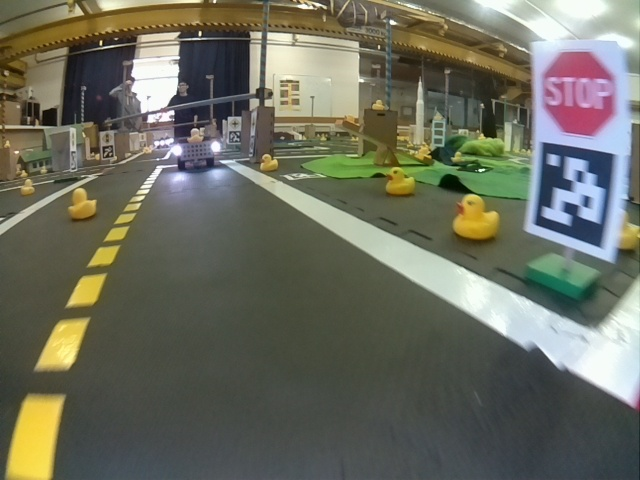Duckie: (455, 197, 499, 240), (385, 167, 412, 195), (71, 190, 96, 218), (260, 154, 278, 171), (21, 180, 34, 194), (188, 132, 203, 142), (372, 99, 383, 109)
Duckiebot: (174, 140, 219, 170)
Intersection sign: (228, 118, 241, 129)
QR code: (535, 140, 618, 253), (101, 145, 115, 159), (228, 134, 241, 144)
Signal sign: (100, 132, 113, 144)
Stop sign: (538, 49, 621, 136)
